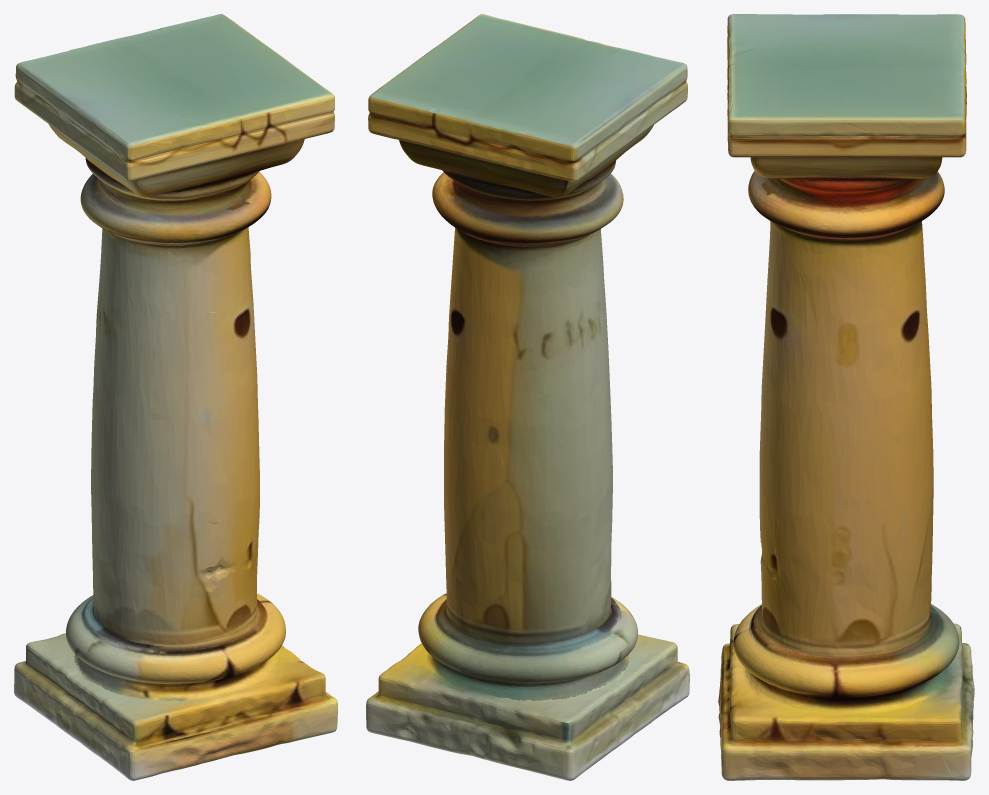
File: weathered-monolith-pillar-generated-2026-04-18t22-01-36-007z-texture-wrap-2026-04-18T22-48-19-209Z.low.glb
3 views of the same model, side by side, from view 1: azimuth 30°, elevation 25°; view 2: azimuth 150°, elevation 25°; view 3: azimuth 270°, elevation 25° (orthographic). The views are drawn at different scales.
Visible parts, largest first — view 1: temp_mesh.ply; view 2: temp_mesh.ply; view 3: temp_mesh.ply.
Part boxes in pixels (x1=…): temp_mesh.ply: x1=14, y1=14, x2=337, y2=780; temp_mesh.ply: x1=366, y1=14, x2=689, y2=780; temp_mesh.ply: x1=718, y1=14, x2=974, y2=780.
Size of the model in its own units: 0.6843 by 1.97 by 0.6913.
1 material, 1 textured.
